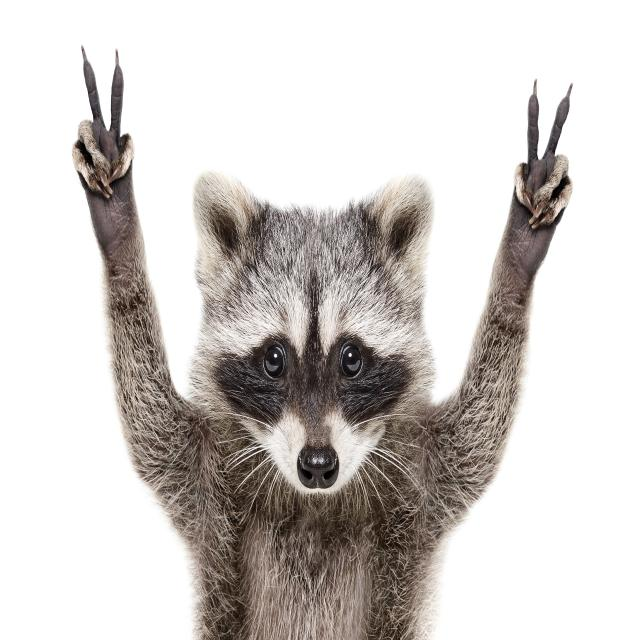raccoon: (73, 48, 573, 638)
